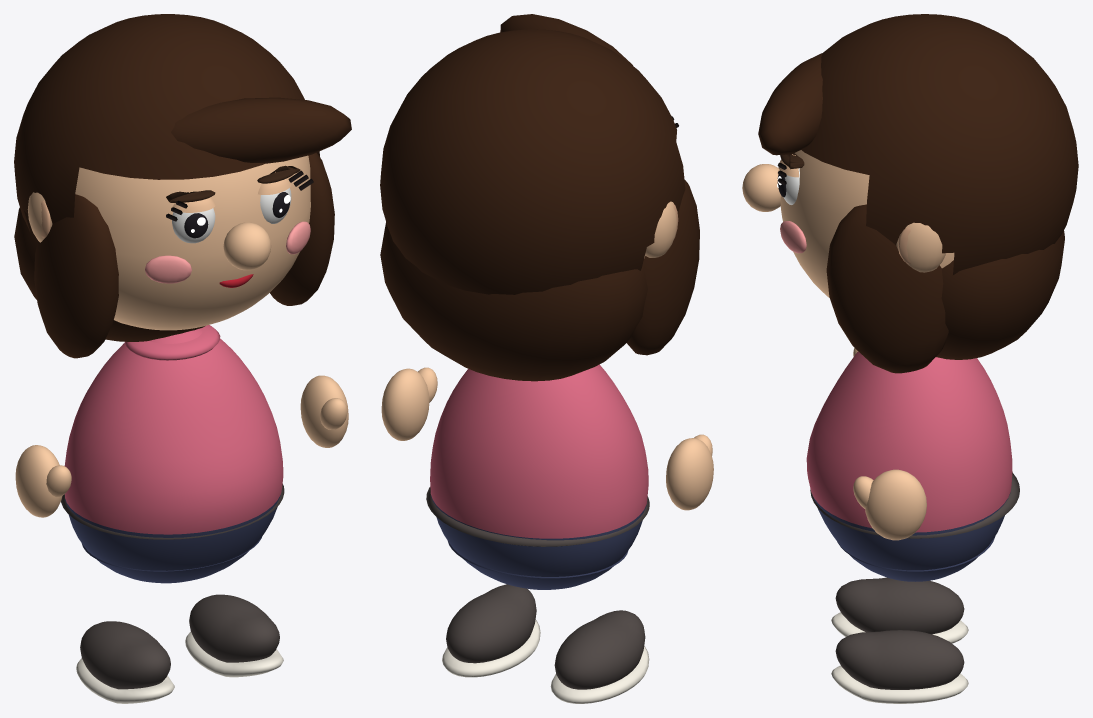
Rendered from char_musteri_kadin.glb.
3 renders of one model, left to right at view 1: azimuth 30°, elevation 25°; view 2: azimuth 150°, elevation 25°; view 3: azimuth 270°, elevation 25°, orthographic.
Parts seen in each view (by area): view 1: Head, Body, FootL, FootR, HandR, HandL, EyeR, EyeL; view 2: Head, Body, FootR, FootL, HandL, HandR; view 3: Head, Body, FootL, FootR, HandL, EyeL.
Part boxes in pixels (bbox=[...]): Head: bbox=[14, 14, 351, 358]; Body: bbox=[61, 325, 284, 583]; FootL: bbox=[185, 594, 283, 677]; FootR: bbox=[76, 621, 174, 703]; HandR: bbox=[15, 445, 71, 517]; HandL: bbox=[300, 375, 348, 447]; EyeR: bbox=[172, 192, 215, 243]; EyeL: bbox=[258, 172, 291, 223]; Head: bbox=[380, 14, 699, 381]; Body: bbox=[426, 364, 649, 589]; FootR: bbox=[550, 610, 649, 703]; FootL: bbox=[442, 584, 540, 677]; HandL: bbox=[381, 367, 437, 440]; HandR: bbox=[666, 434, 713, 510]; Head: bbox=[742, 14, 1078, 373]; Body: bbox=[806, 351, 1019, 581]; FootL: bbox=[831, 630, 968, 703]; FootR: bbox=[831, 577, 968, 643]; HandL: bbox=[853, 469, 926, 540]; EyeL: bbox=[778, 154, 799, 204].
Bounding box in the file's own units: 0.7683 × 1.45 × 0.6956.
